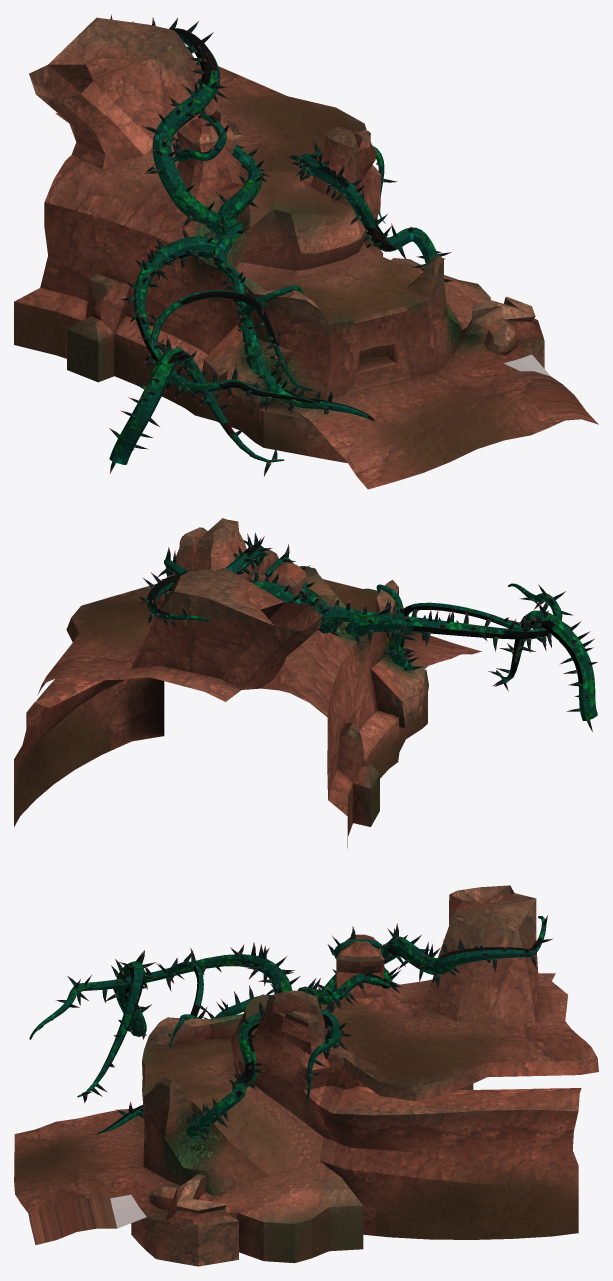
Rendered from seedy-bluff.glb.
The picture shows the model from 3 angles, top to bottom: view 1: azimuth 30°, elevation 25°; view 2: azimuth 150°, elevation 25°; view 3: azimuth 270°, elevation 25°; orthographic projection. The views are drawn at different scales.
Visible parts, largest first — view 1: seedy-bluff, ThornExpanded; view 2: seedy-bluff, ThornExpanded; view 3: seedy-bluff, ThornExpanded.
Part boxes in pixels (<box>): seedy-bluff: <box>14,17,598,489</box>; ThornExpanded: <box>109,14,455,476</box>; seedy-bluff: <box>14,518,481,848</box>; ThornExpanded: <box>136,532,597,731</box>; seedy-bluff: <box>14,885,598,1266</box>; ThornExpanded: <box>29,914,553,1140</box>.
Size of what is drawn, in the model's own units: 22.26 by 12.66 by 26.63.
Materials: 3 (3 with a texture image).
